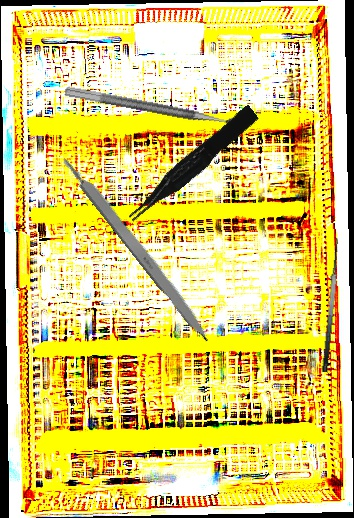Fixation Ring: (61, 84, 247, 147)
Scalpel Handle: (59, 151, 216, 345)
Spatula Surgical: (309, 236, 346, 373)
Tissue Forceps: (119, 104, 264, 225)
